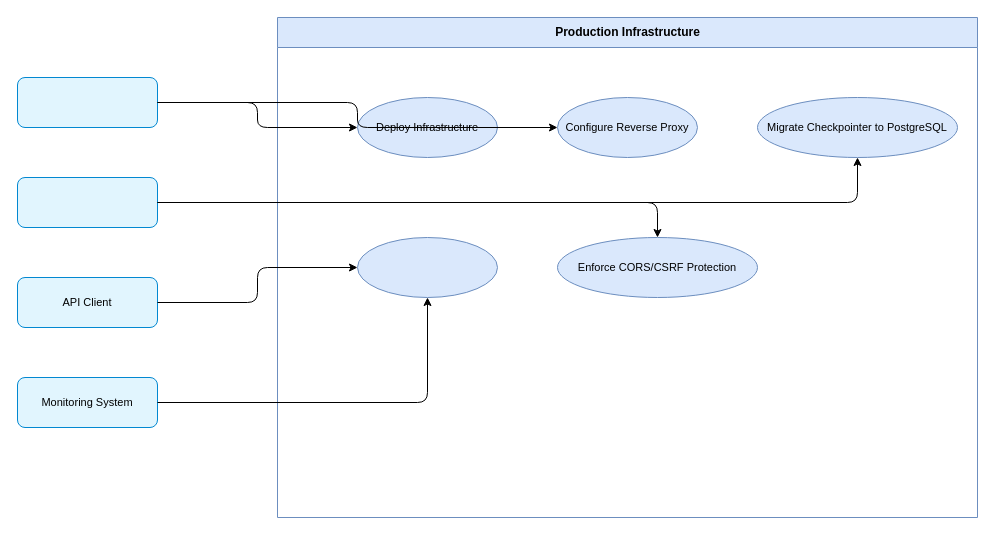
Image size: 995x535. Some labels were removed from this diagram. Here are the shapes that lost their labels. From the top down, the centre of each, then its label:
At (87,102): "DevOps Engineer".
At (87,202): "System Administrator".
At (427,267): "Monitor Health Endpoints".
